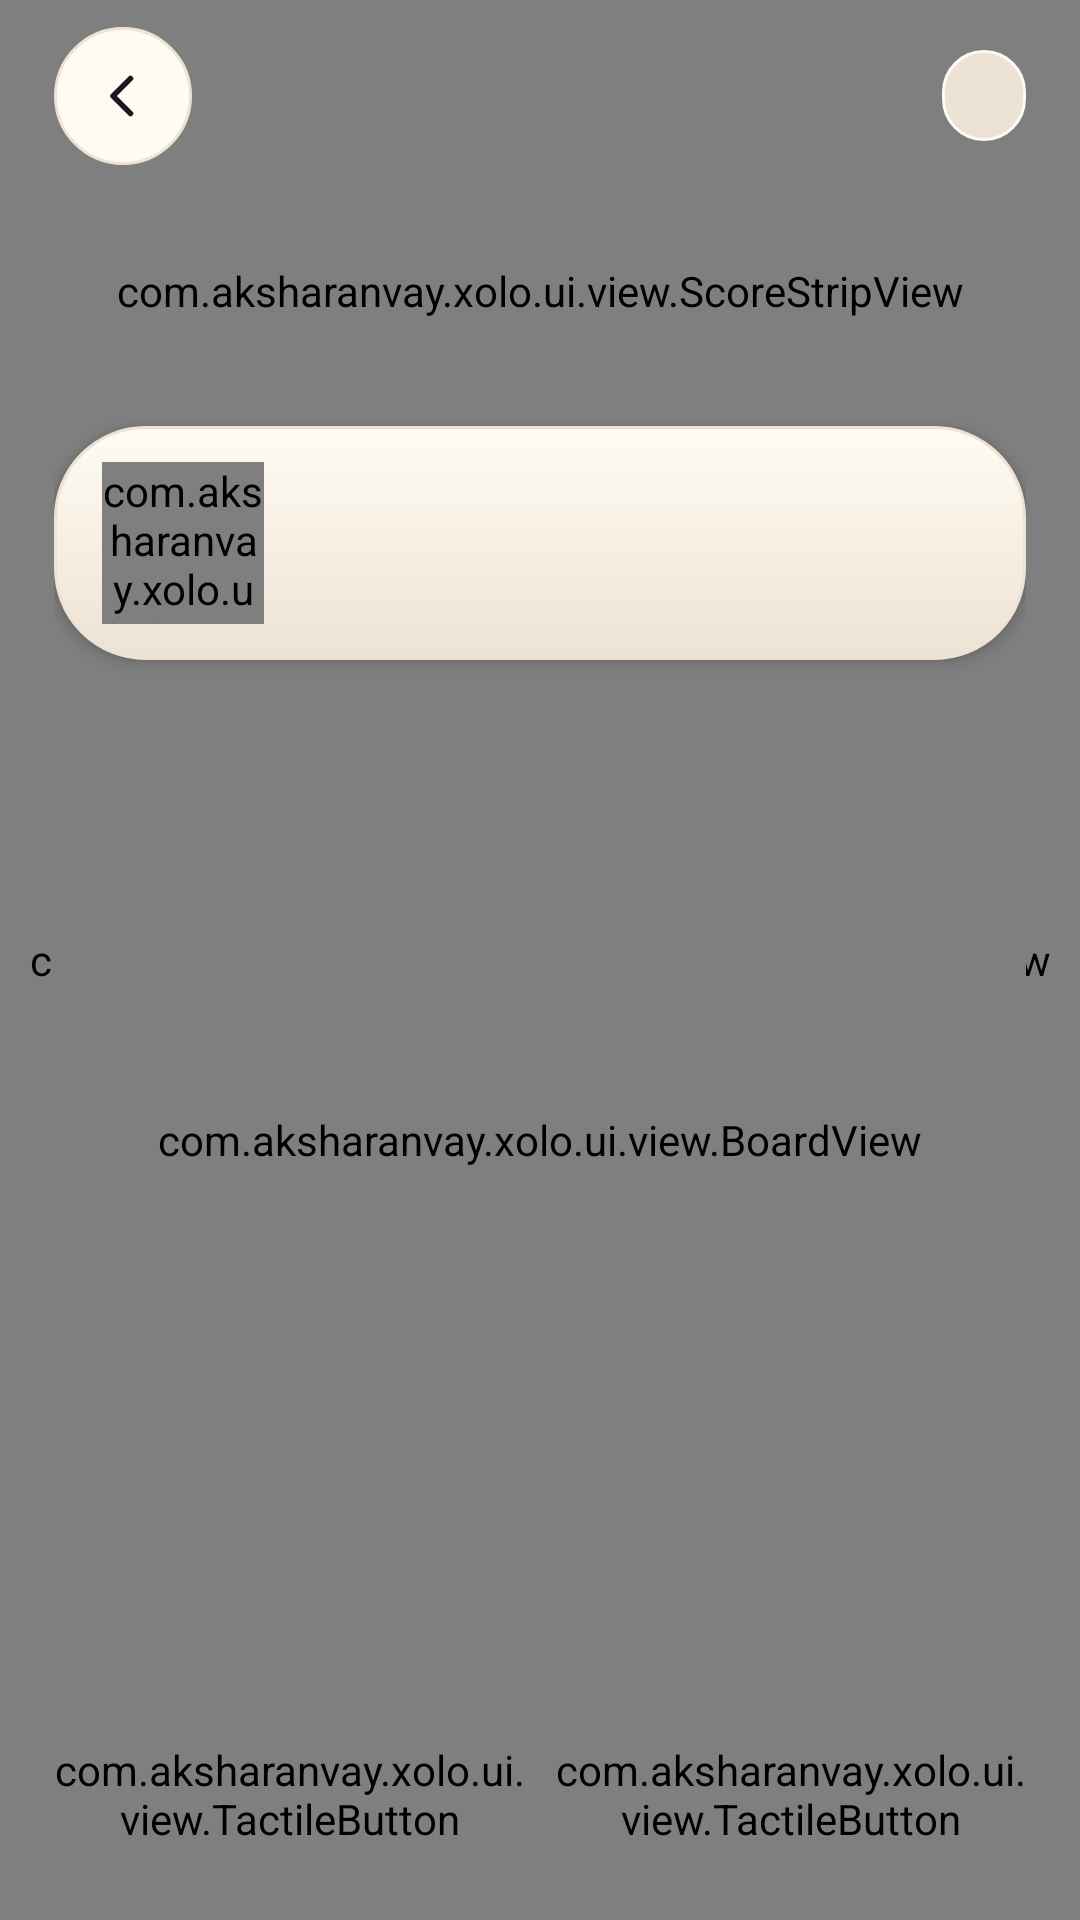

Icons on this 1080 × 1920 Android screen, each with its box as bbox(x1, y1, x2, y2):
Back: bbox(54, 27, 192, 165)
